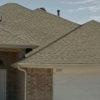Chimney: (53, 7, 63, 18)
